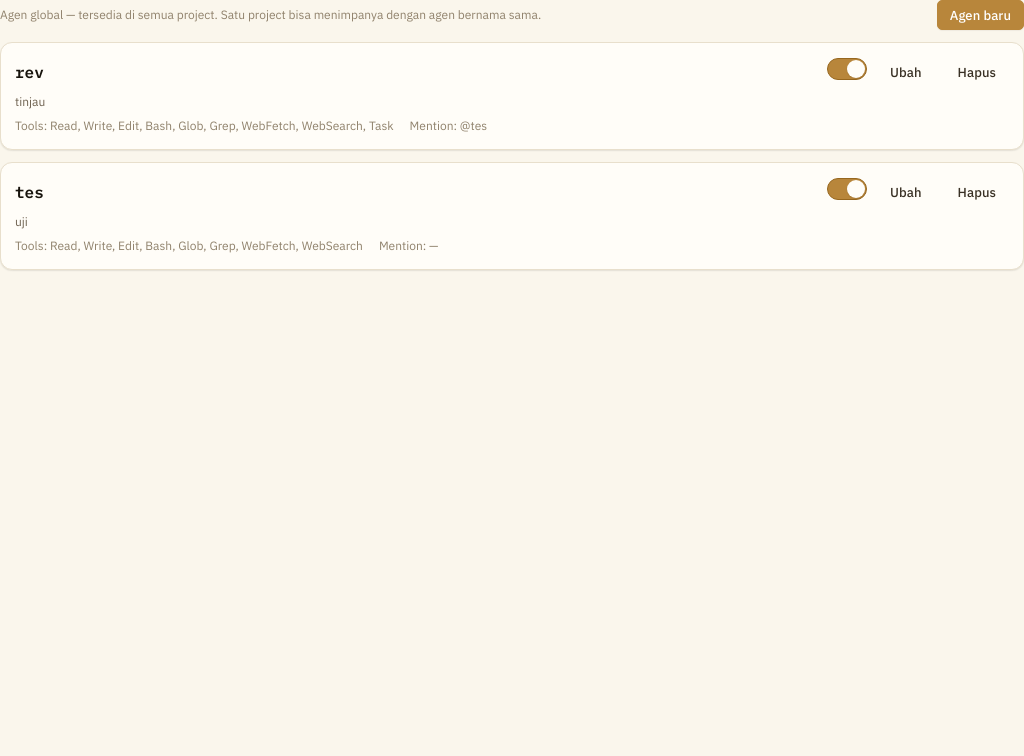
Test: CustomAgentsPanel › menampilkan jalur siklus apa adanya saat server menolak 409
The image size is (1024, 756).
Click the button "Agen baru".
click(980, 15)  # box 937,0 -> 1023,30
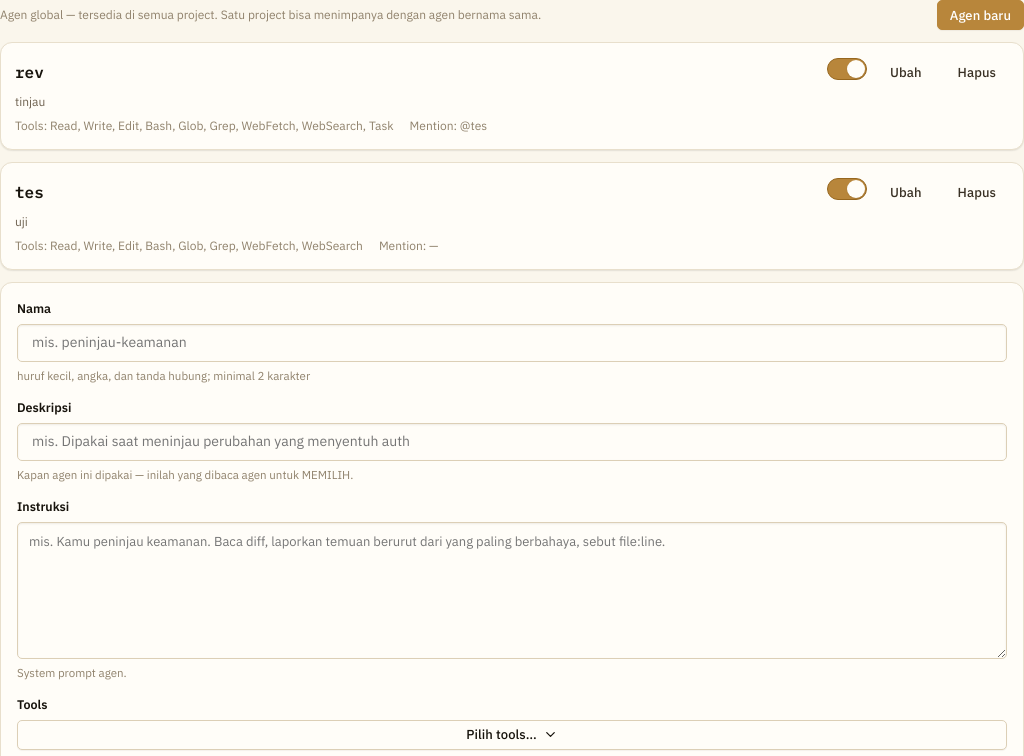
Type "agn-a" into the field labelled "Nama".
click(512, 343); type("agn-a")  # box 30,333 -> 994,352
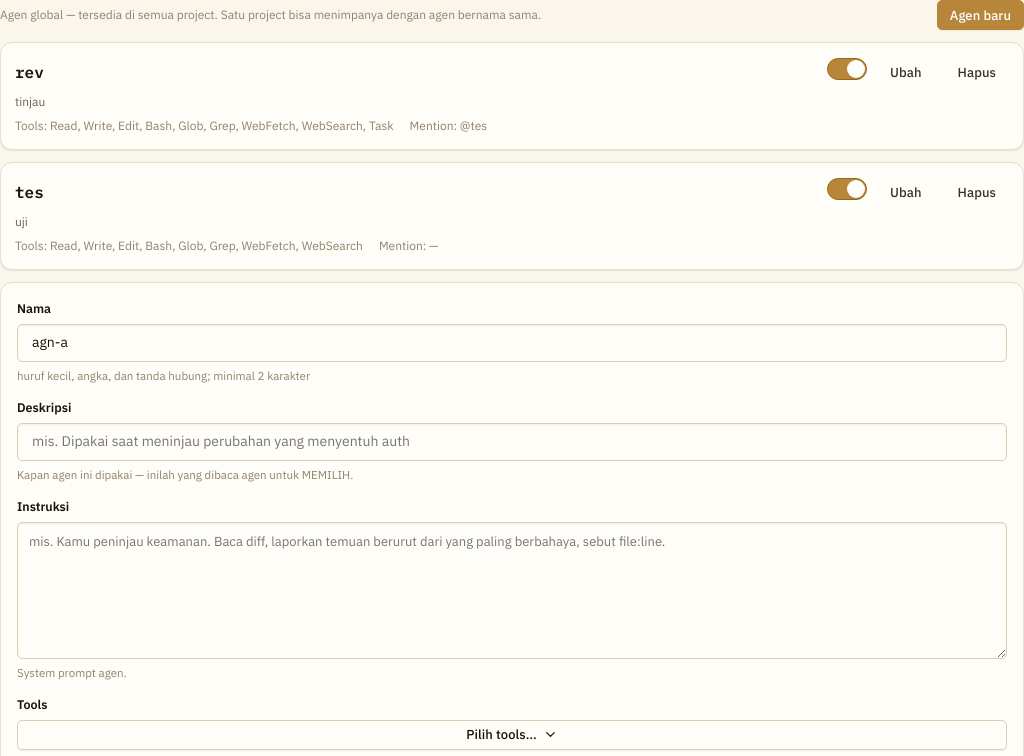
Type "d" into the field labelled "Deskripsi".
click(512, 442); type("d")  # box 30,432 -> 994,451
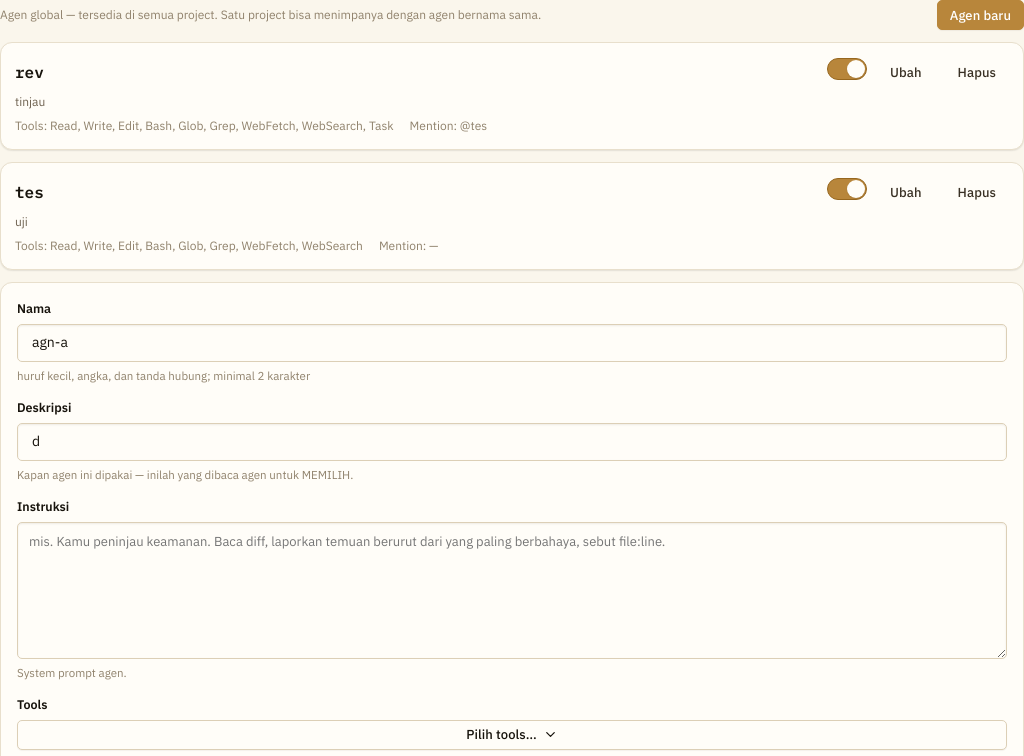
Replace the text in the text box labelled "Instruksi" with "i" at (512, 590), box 17,522 -> 1007,659
(page scrolled)
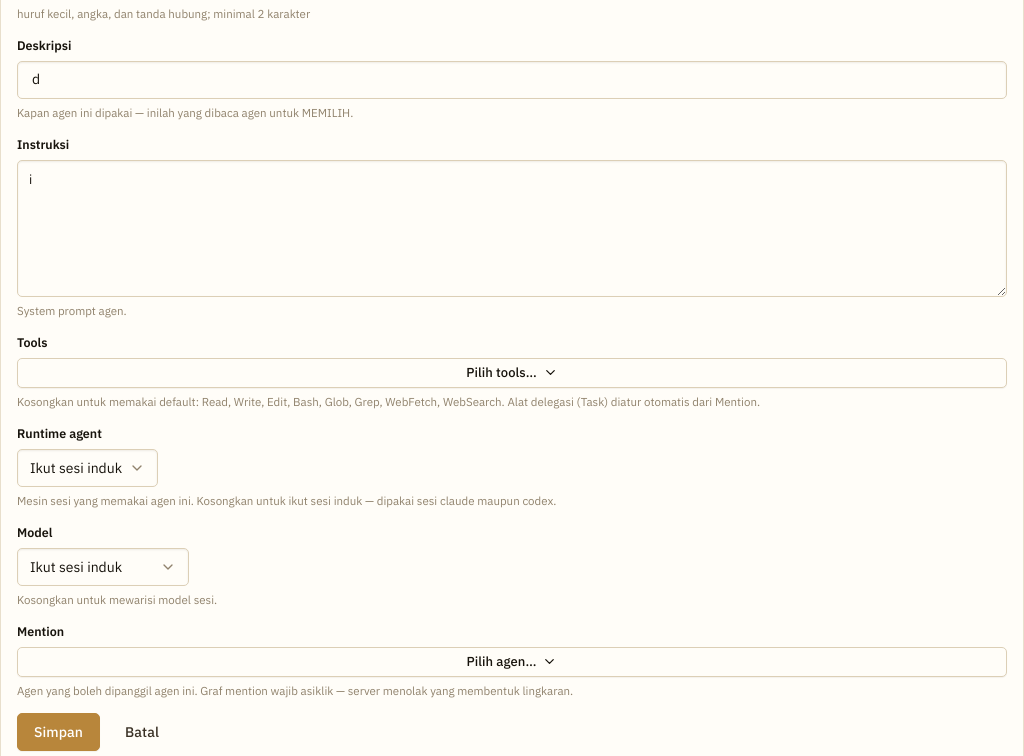
Click the button "Simpan".
click(58, 732)  # box 17,713 -> 100,751
(page scrolled)
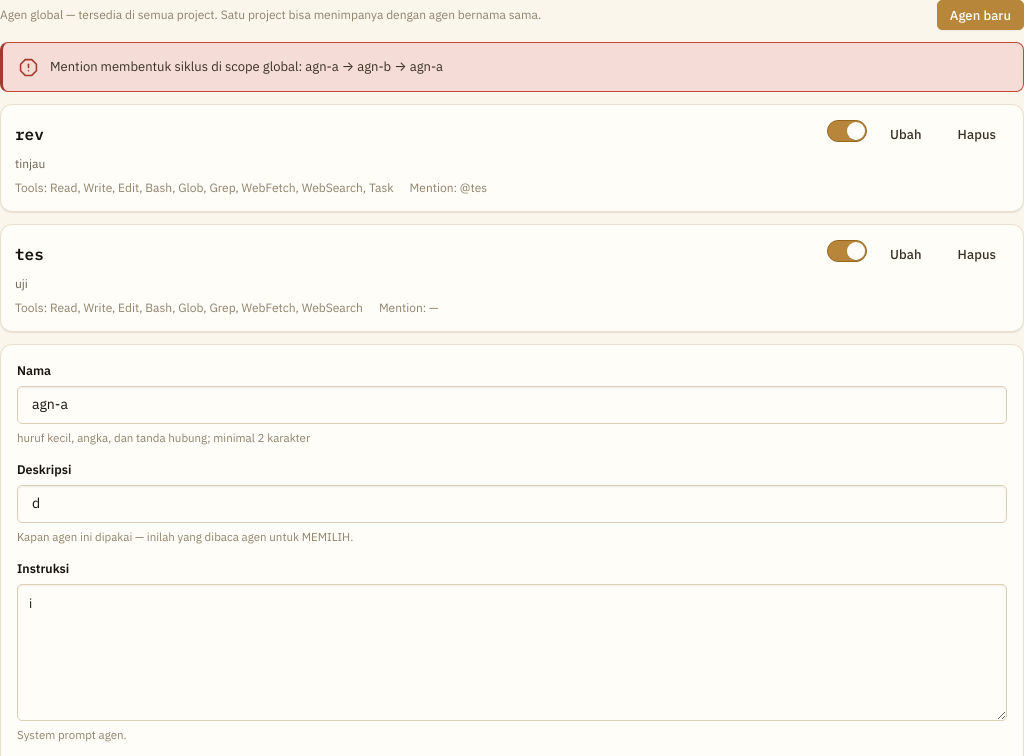
Now the text "scope global" is shown, box 50,58 -> 443,75
